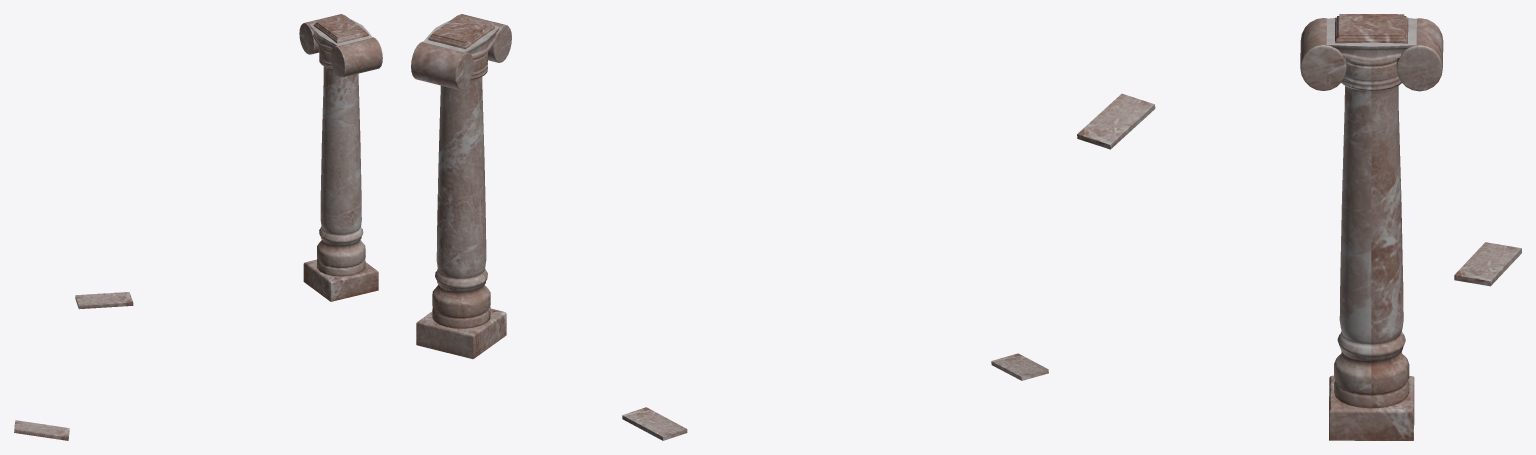
File: courtyard-stonework.glb
The picture shows the model from 3 angles, left to right: view 1: azimuth 30°, elevation 25°; view 2: azimuth 150°, elevation 25°; view 3: azimuth 270°, elevation 25°; orthographic projection. The views are drawn at different scales.
Parts seen in each view (by area): view 1: Courtyard_column, Courtyard_slab_a, Courtyard_slab_b; view 2: Courtyard_column, Courtyard_slab_a, Courtyard_slab_b; view 3: Courtyard_column, Courtyard_slab_b, Courtyard_slab_a.
Boxes of the visible parts, bbox=[...] form: Courtyard_column: bbox=[299, 14, 382, 301]; Courtyard_slab_a: bbox=[75, 292, 133, 309]; Courtyard_slab_b: bbox=[14, 420, 69, 440]; Courtyard_column: bbox=[411, 14, 511, 358]; Courtyard_slab_a: bbox=[622, 407, 687, 440]; Courtyard_slab_b: bbox=[991, 353, 1048, 380]; Courtyard_column: bbox=[1300, 14, 1443, 440]; Courtyard_slab_b: bbox=[1077, 93, 1155, 149]; Courtyard_slab_a: bbox=[1454, 242, 1521, 286].
Bounding box in the file's own units: 617 × 354 × 358.
1 material, 1 textured.
